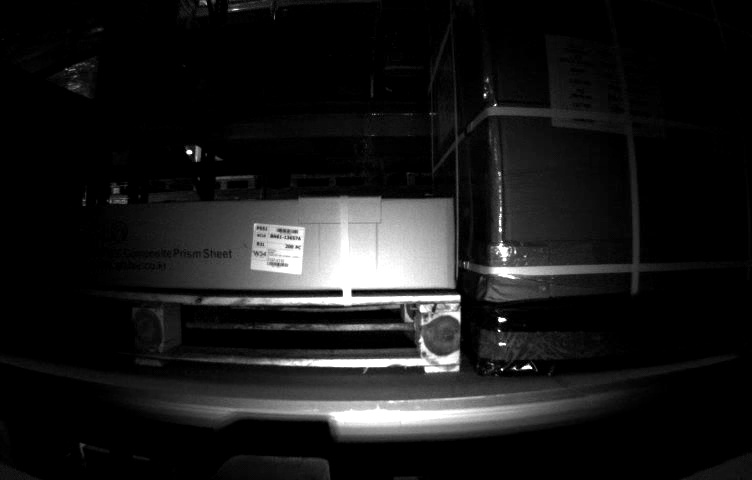True Barcode: (249, 221, 303, 274)
